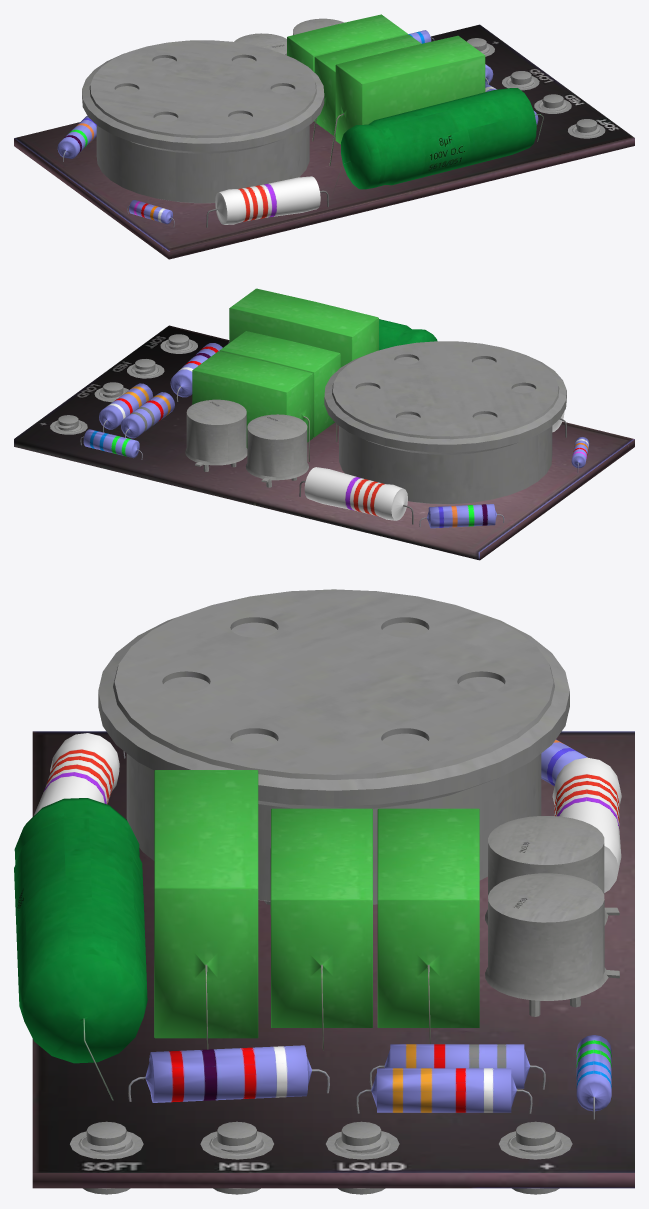
The model's file is Circuitboard.glb.
3 renders of one model, top to bottom at view 1: azimuth 30°, elevation 25°; view 2: azimuth 150°, elevation 25°; view 3: azimuth 270°, elevation 25°, orthographic. The views are drawn at different scales.
Parts seen in each view (by area): view 1: Buzzer, Board, Capacitor01, Capacitor04, Resistor08, Transistor02, Resistor05, Resistor06; view 2: Buzzer, Board, Capacitor01, Transistor02, Resistor08, Resistor05, Resistor03, Resistor02, Capacitor04, Resistor01, Resistor04, Resistor06; view 3: Buzzer, Board, Capacitor01, Capacitor04, Transistor02, Resistor08, Resistor04, Resistor02, Resistor03, Resistor01, Resistor05.
Part boxes in pixels (x1,y1,x2,y2): Buzzer: (82, 38, 605, 203); Board: (14, 24, 634, 259); Capacitor01: (287, 14, 485, 165); Capacitor04: (335, 88, 543, 189); Resistor08: (206, 176, 328, 227); Transistor02: (234, 18, 343, 55); Resistor05: (57, 116, 96, 161); Resistor06: (127, 200, 174, 227); Buzzer: (50, 334, 566, 504); Board: (14, 325, 634, 560); Capacitor01: (192, 288, 378, 461); Transistor02: (185, 399, 308, 487); Resistor08: (299, 411, 566, 524); Resistor05: (419, 504, 504, 528); Resistor03: (121, 392, 174, 438); Resistor02: (99, 383, 153, 432); Capacitor04: (228, 319, 437, 350); Resistor01: (80, 429, 142, 459); Resistor04: (170, 343, 222, 401); Resistor06: (571, 437, 589, 472); Buzzer: (70, 589, 572, 1194); Board: (32, 731, 634, 1188); Capacitor01: (154, 770, 479, 1050); Capacitor04: (14, 798, 147, 1100); Transistor02: (485, 816, 619, 1016); Resistor08: (34, 733, 621, 892); Resistor04: (128, 1045, 329, 1102); Resistor02: (356, 1068, 532, 1113); Resistor03: (369, 1044, 545, 1089); Resistor01: (576, 1035, 611, 1119); Resistor05: (541, 739, 587, 785).
Size of the model in its own units: 0.099 by 0.0222 by 0.0588.
Materials: 12 (12 with a texture image).
